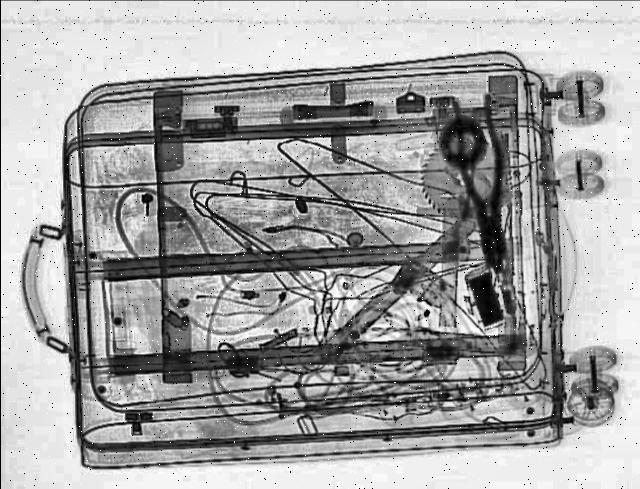Pliers: (444, 91, 520, 271)
